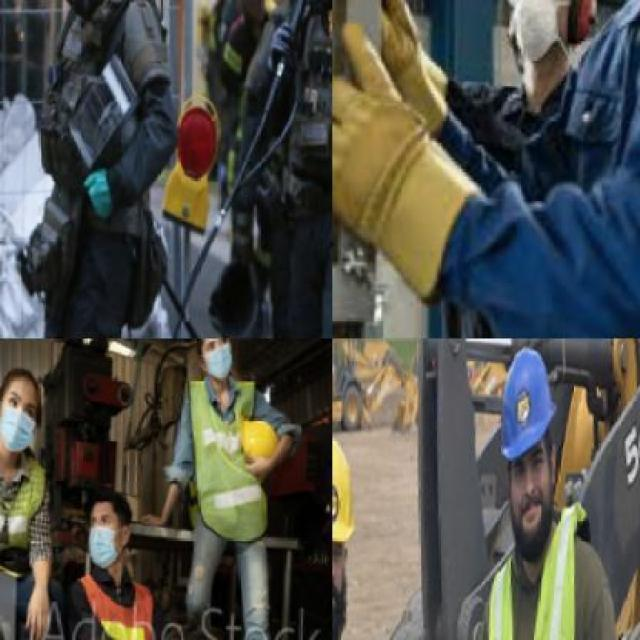Vest: (8, 5, 188, 209), (443, 502, 615, 638), (168, 382, 283, 552), (268, 3, 330, 203), (0, 426, 57, 586), (55, 574, 154, 638)
